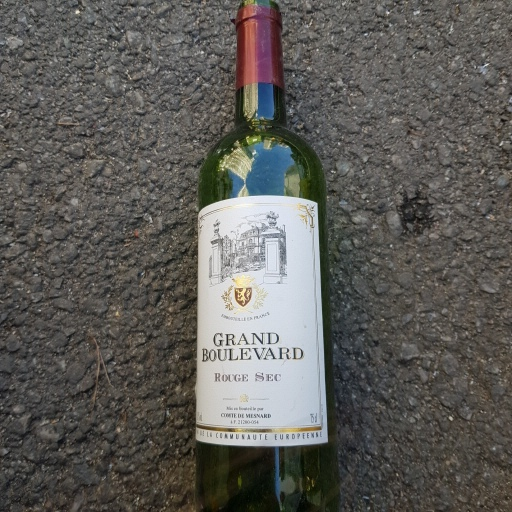Glass_2: (191, 1, 338, 512)
